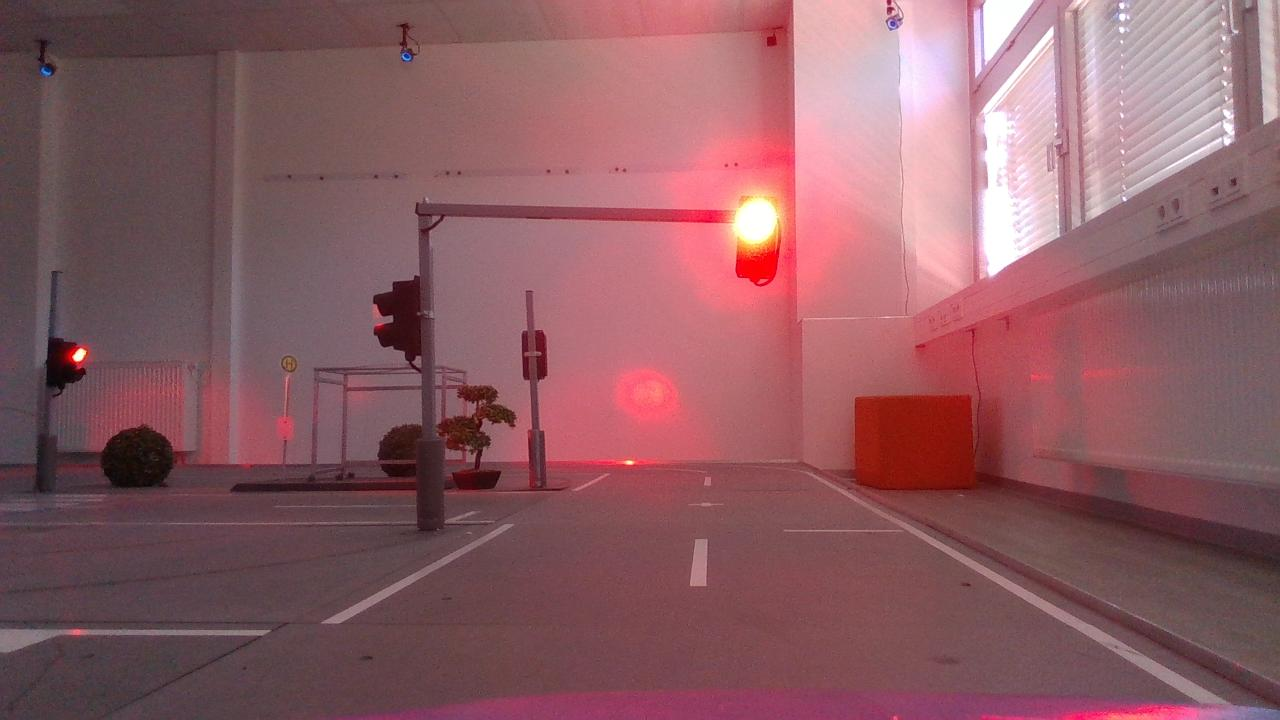traffic_light_red: (711, 164, 799, 307)
